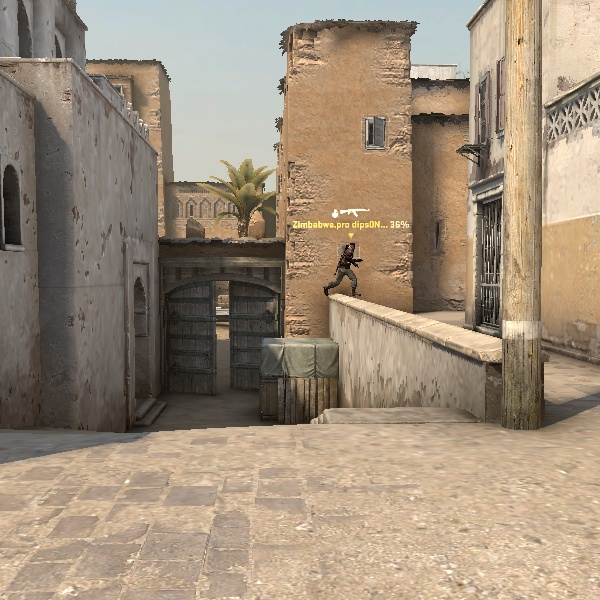t_body: (324, 241, 364, 297)
t_head: (349, 242, 357, 254)
